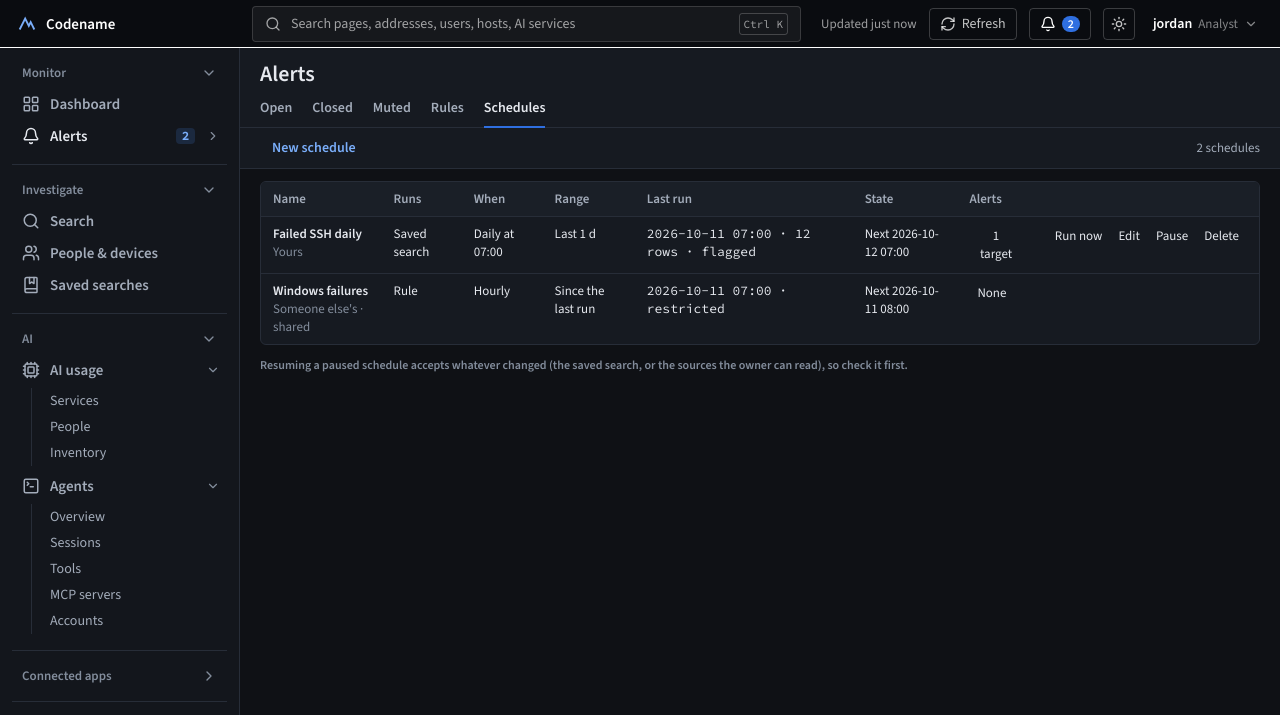
it: Alert targets › shows a schedule's delivery log with failures
This screenshot has width=1280, height=715.
Click the button with aria-label "Alerts of Failed SSH daily".
click(996, 245)  # box [969,225,1023,265]
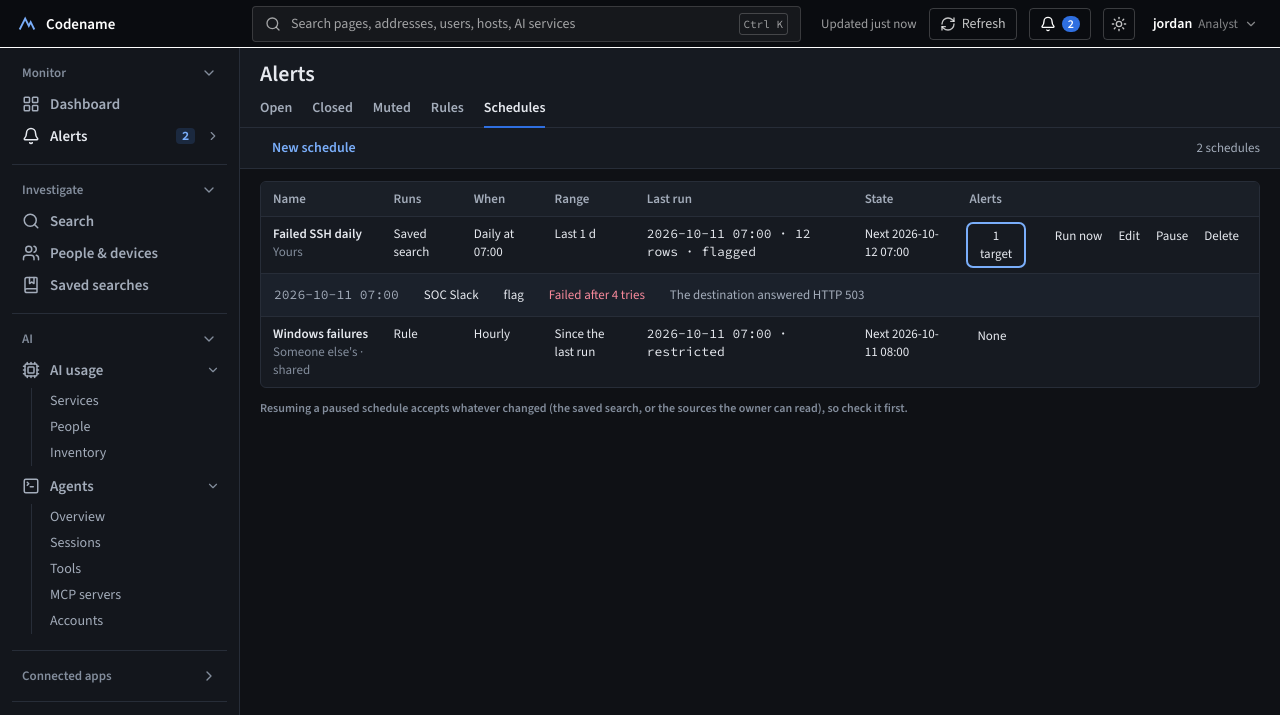
expect the text "Failed after 4 tries" is shown: met, box [548,282,669,308]
expect the text "The destination answered HTTP 503" is shown: met, box [669,282,865,308]
